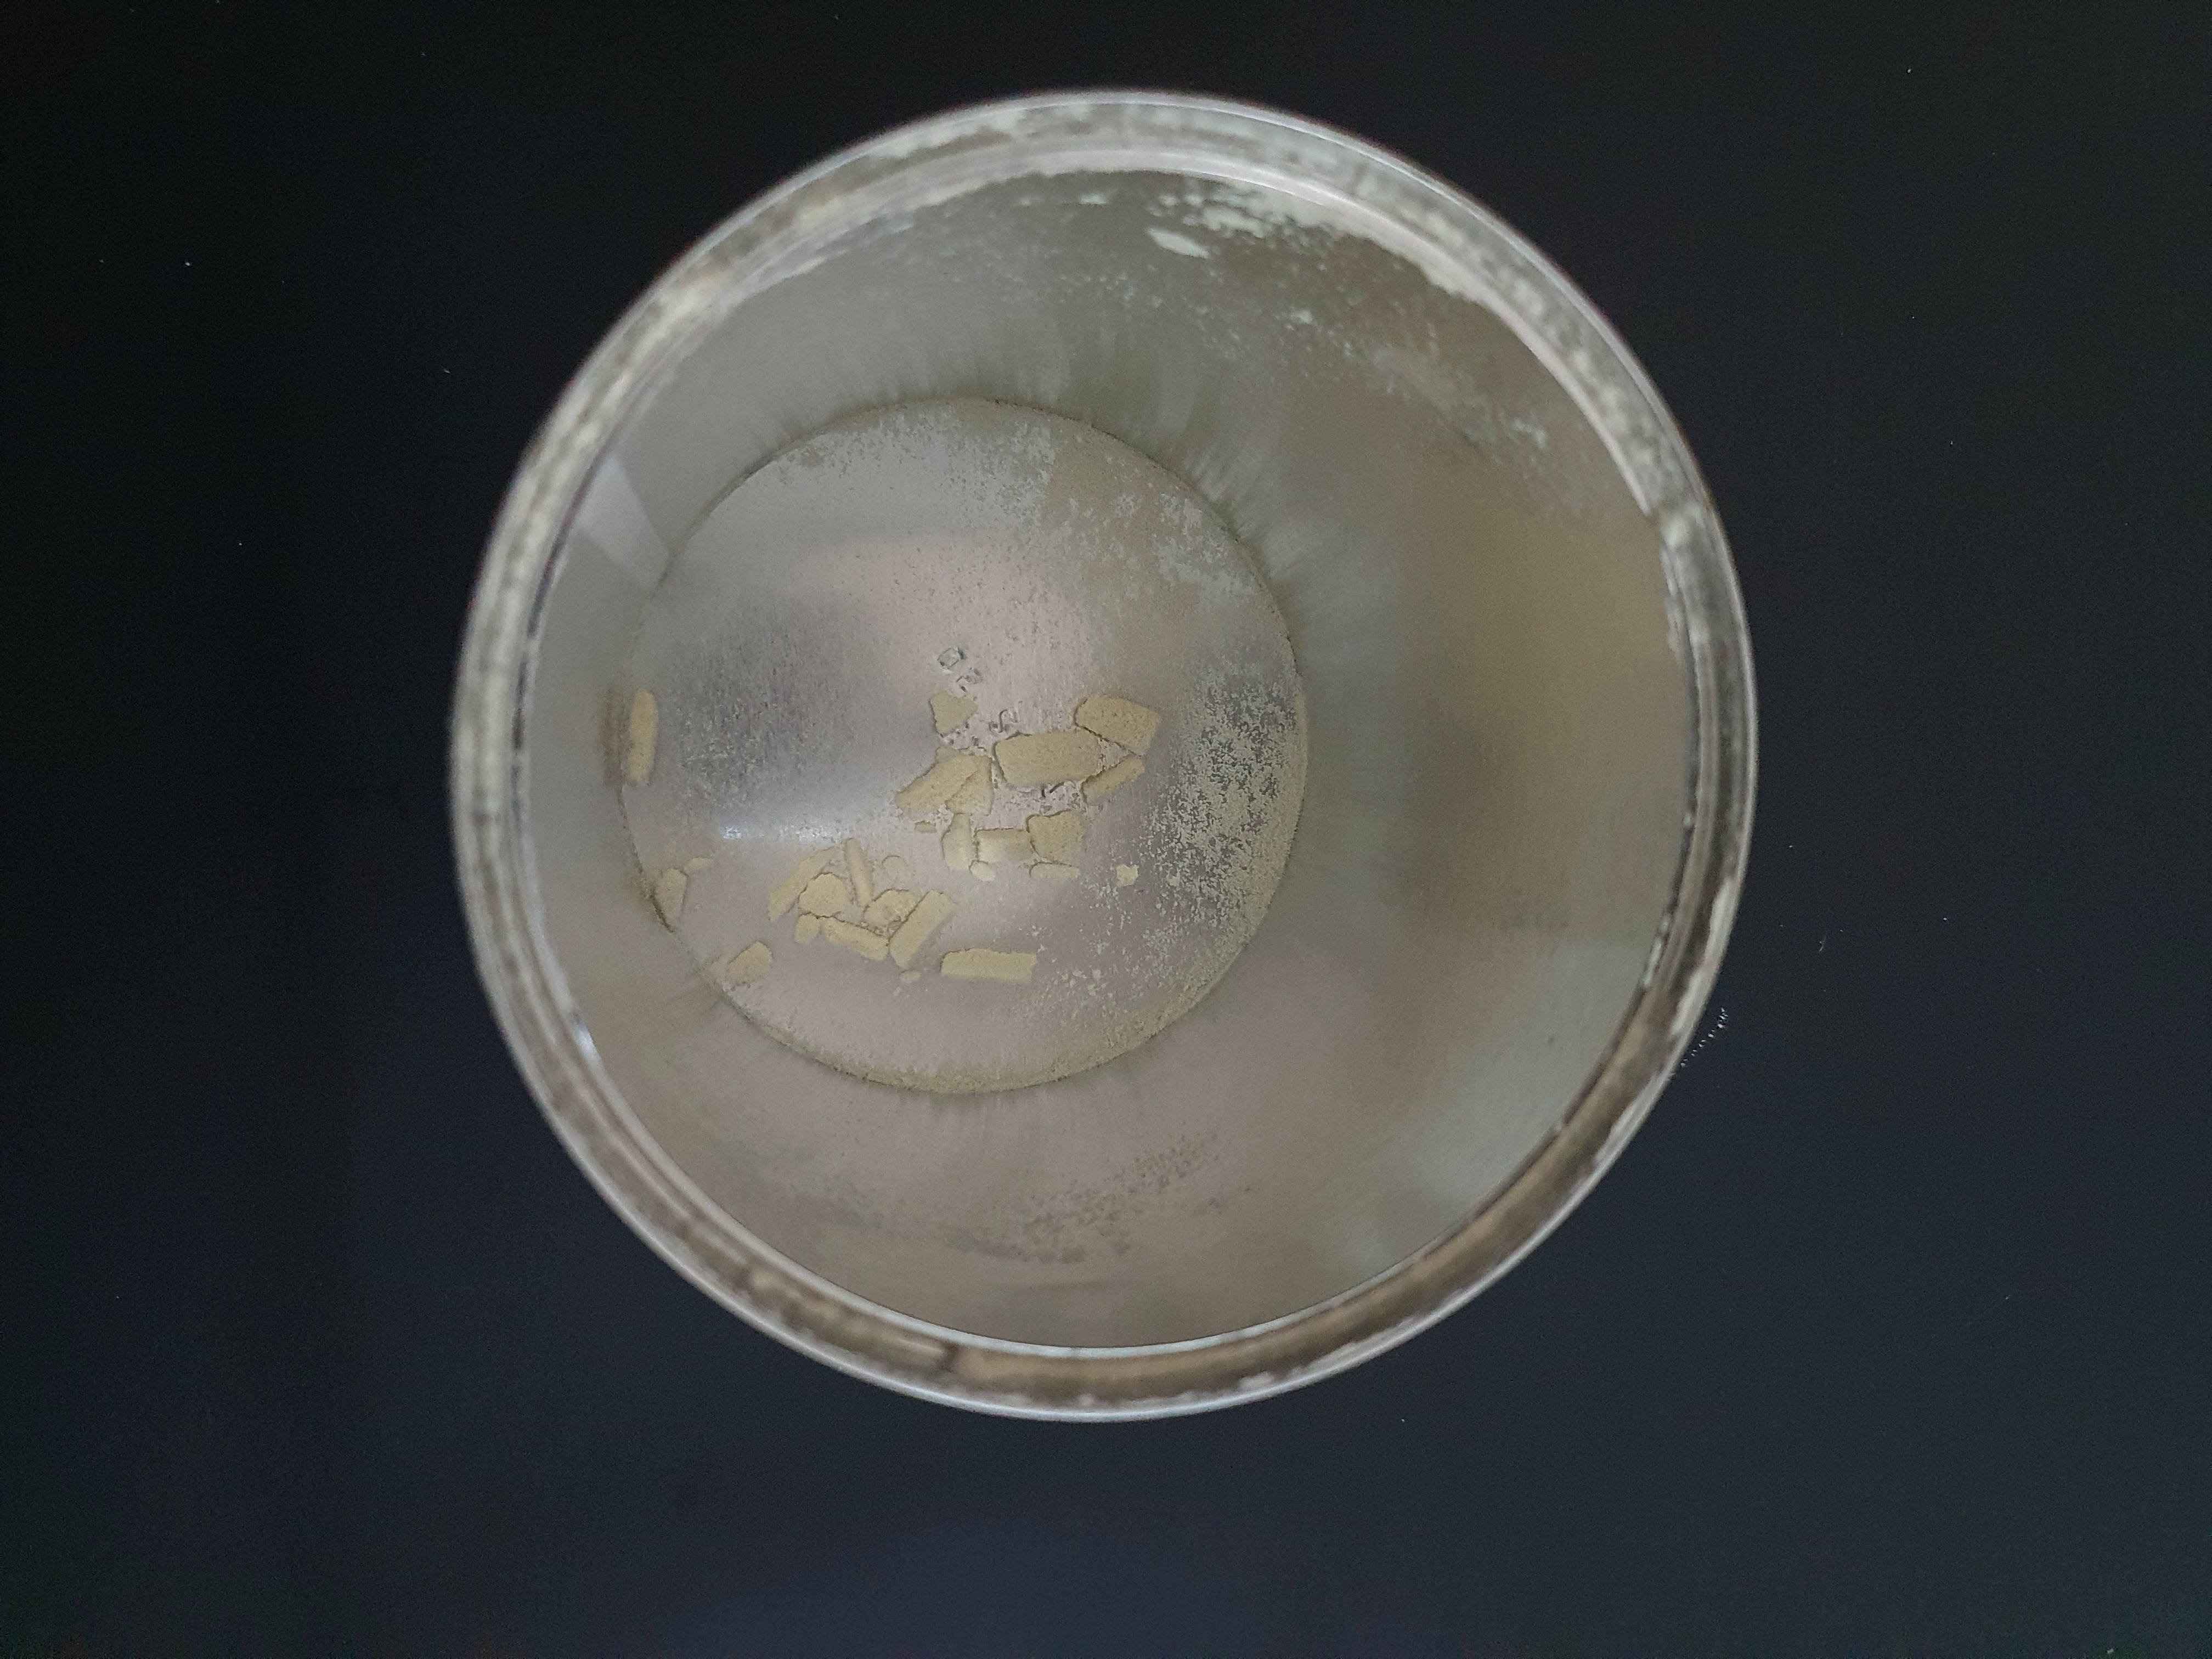metal: (394, 64, 1810, 1478)
